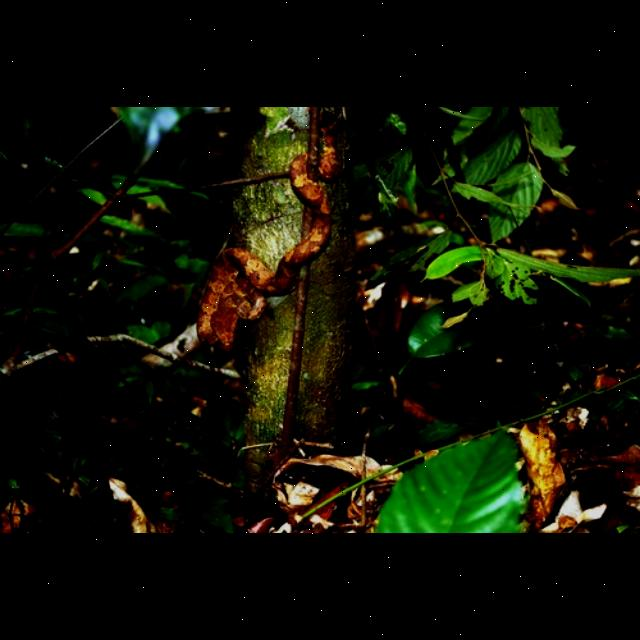snake: (180, 107, 368, 371)
